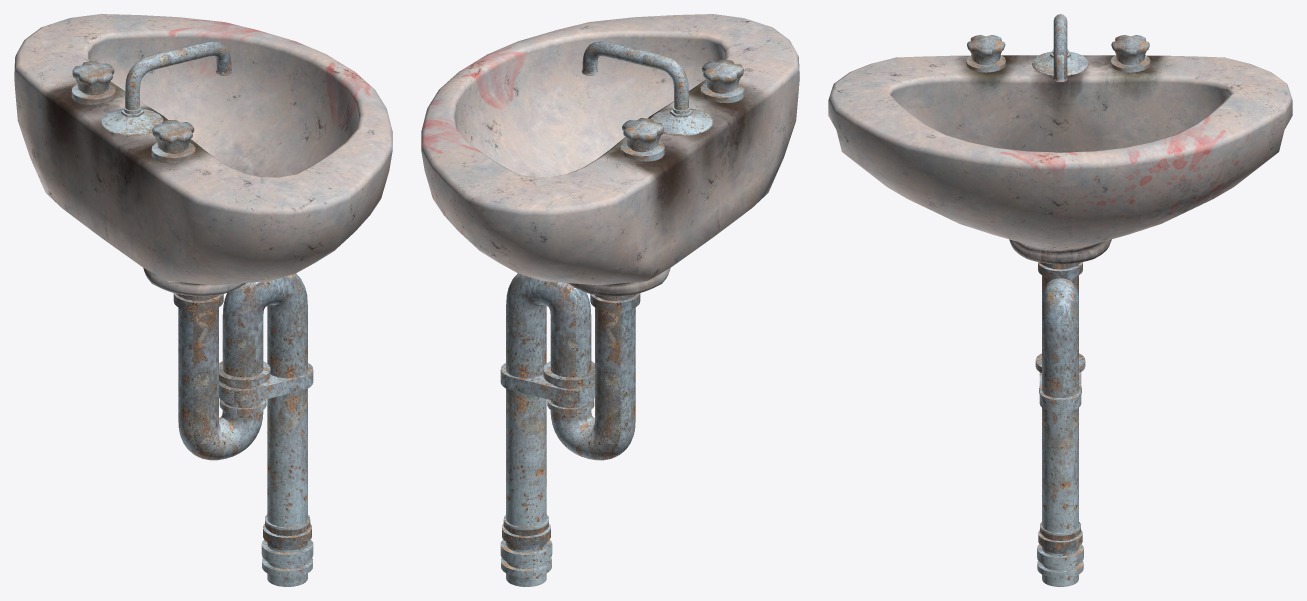
Rendered from sink.fbx.
3 views of the same model, side by side, from view 1: azimuth 30°, elevation 25°; view 2: azimuth 150°, elevation 25°; view 3: azimuth 270°, elevation 25° (orthographic). The views are drawn at different scales.
Visible parts, largest first — view 1: g Sink_GRP Sink_Body, Cylinder, Cylinder.001, g Sink_GRP Main_Faucet Faucet, g Sink_GRP Right_Knob_Sink pCylinder60, g Sink_GRP pCylinder68 Left_Knob_Sink; view 2: g Sink_GRP Sink_Body, Cylinder, Cylinder.001, g Sink_GRP Main_Faucet Faucet, g Sink_GRP pCylinder68 Left_Knob_Sink, g Sink_GRP Right_Knob_Sink pCylinder60; view 3: g Sink_GRP Sink_Body, Cylinder, Cylinder.001, g Sink_GRP Main_Faucet Faucet, g Sink_GRP Right_Knob_Sink pCylinder60, g Sink_GRP pCylinder68 Left_Knob_Sink.
Boxes of the visible parts, x1,y1,x2,y2 form: g Sink_GRP Sink_Body: [14, 14, 392, 296]; Cylinder: [219, 273, 313, 550]; Cylinder.001: [173, 293, 313, 586]; g Sink_GRP Main_Faucet Faucet: [101, 41, 232, 135]; g Sink_GRP Right_Knob_Sink pCylinder60: [71, 61, 115, 104]; g Sink_GRP pCylinder68 Left_Knob_Sink: [151, 120, 195, 163]; g Sink_GRP Sink_Body: [421, 14, 799, 296]; Cylinder: [500, 273, 594, 550]; Cylinder.001: [500, 293, 640, 586]; g Sink_GRP Main_Faucet Faucet: [581, 41, 712, 135]; g Sink_GRP pCylinder68 Left_Knob_Sink: [700, 59, 744, 103]; g Sink_GRP Right_Knob_Sink pCylinder60: [620, 118, 664, 161]; g Sink_GRP Sink_Body: [828, 55, 1292, 264]; Cylinder: [1035, 278, 1085, 553]; Cylinder.001: [1037, 262, 1083, 586]; g Sink_GRP Main_Faucet Faucet: [1032, 14, 1088, 82]; g Sink_GRP Right_Knob_Sink pCylinder60: [1110, 35, 1150, 72]; g Sink_GRP pCylinder68 Left_Knob_Sink: [966, 35, 1005, 72].
Size of the model in its own units: 300 by 624 by 523.
